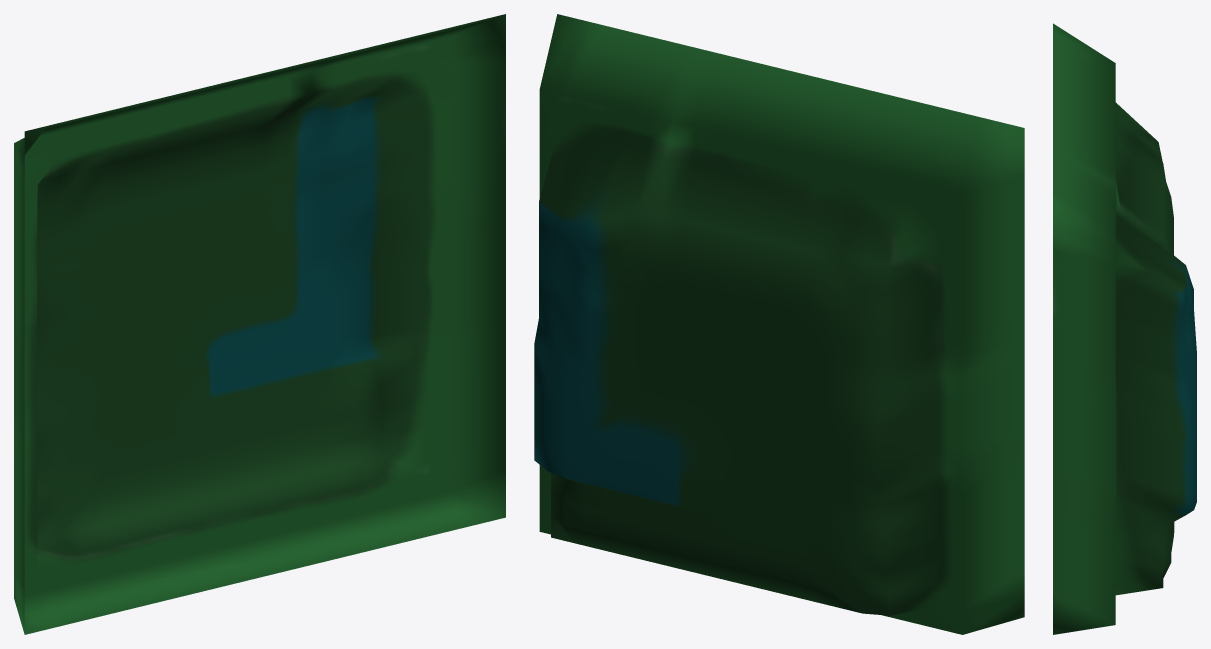
The model's file is wip.glb.
The picture shows the model from 3 angles, left to right: view 1: azimuth 30°, elevation 25°; view 2: azimuth 150°, elevation 25°; view 3: azimuth 270°, elevation 25°; orthographic projection. The views are drawn at different scales.
Parts seen in each view (by area): view 1: Plane-col; view 2: Plane-col; view 3: Plane-col.
Boxes of the visible parts, x1=… form: Plane-col: x1=14, y1=14, x2=505, y2=634; Plane-col: x1=534, y1=14, x2=1024, y2=634; Plane-col: x1=1053, y1=23, x2=1196, y2=634.
Bounding box in the file's own units: 100 × 100 × 30.77.
1 material, 1 textured.
